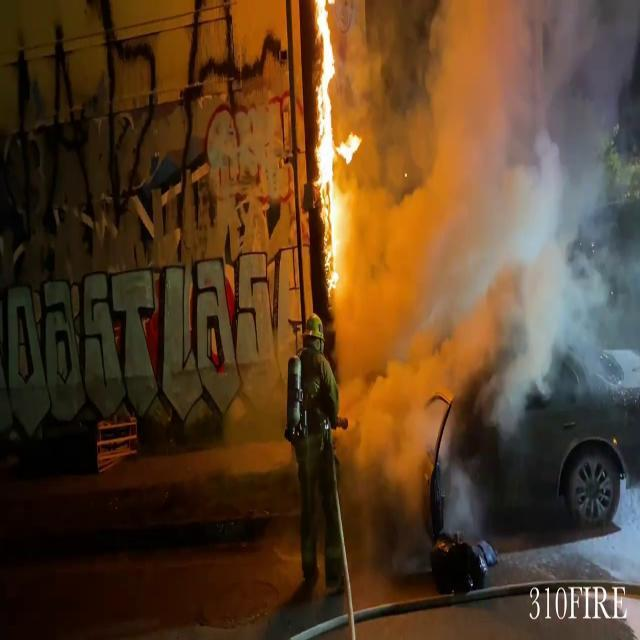Fire: (308, 0, 355, 284)
Smoke: (326, 0, 639, 565)
